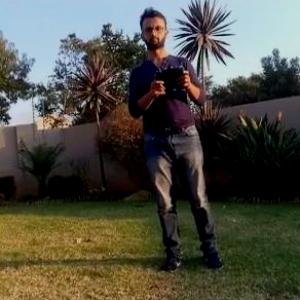follow: (123, 3, 226, 277)
